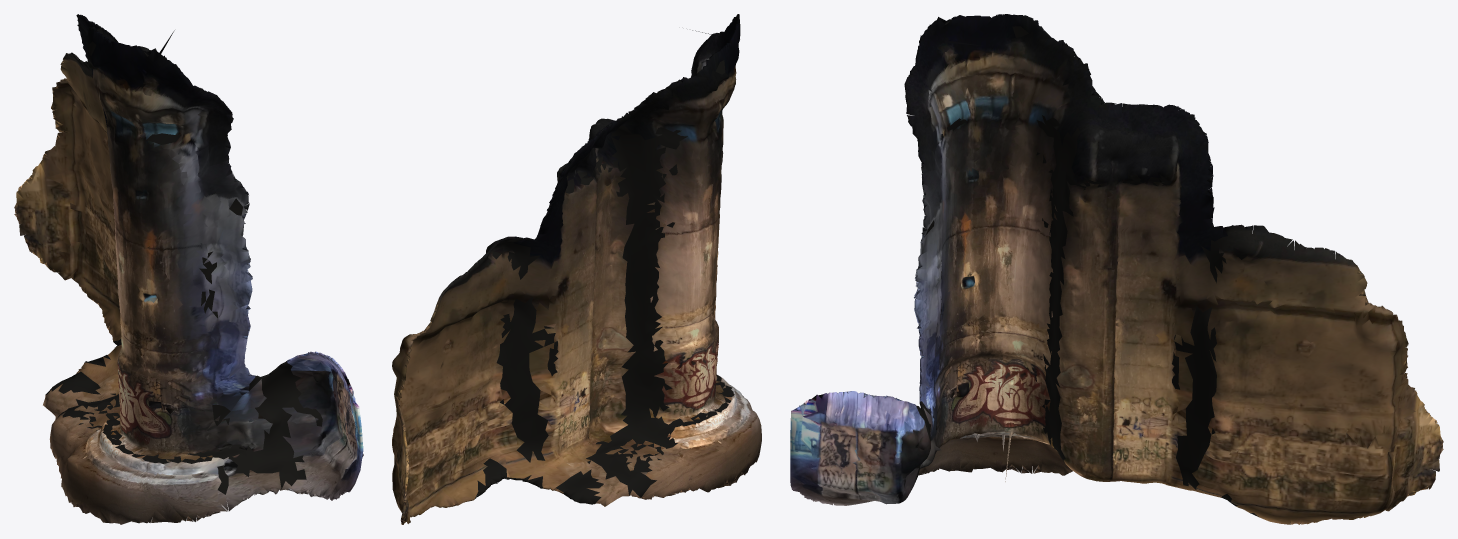
File: Wall.obj
3 renders of one model, left to right at view 1: azimuth 30°, elevation 25°; view 2: azimuth 150°, elevation 25°; view 3: azimuth 270°, elevation 25°, orthographic. The views are drawn at different scales.
Size of the model in its own units: 141 by 320 by 398.
